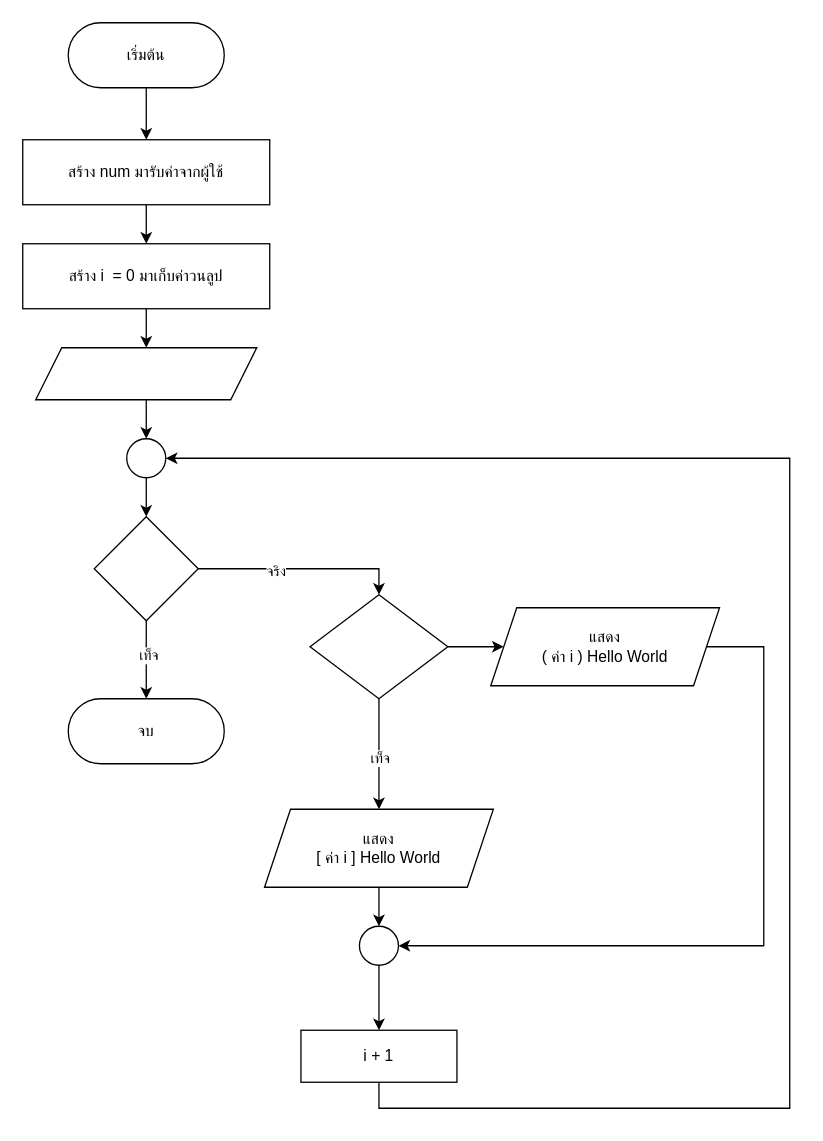
Some shapes in this 823 by 1141 pixel diagram are drawn without their labels. The shapes that lost their labels are listed below. From the top down, each one's box as (x1, y1, x2, y2) in pixels, then its label:
(34, 346, 257, 400): รับค่า num จากผู้ใช้
(93, 515, 198, 621): i < num
(309, 593, 448, 699): num % 2 = 0
